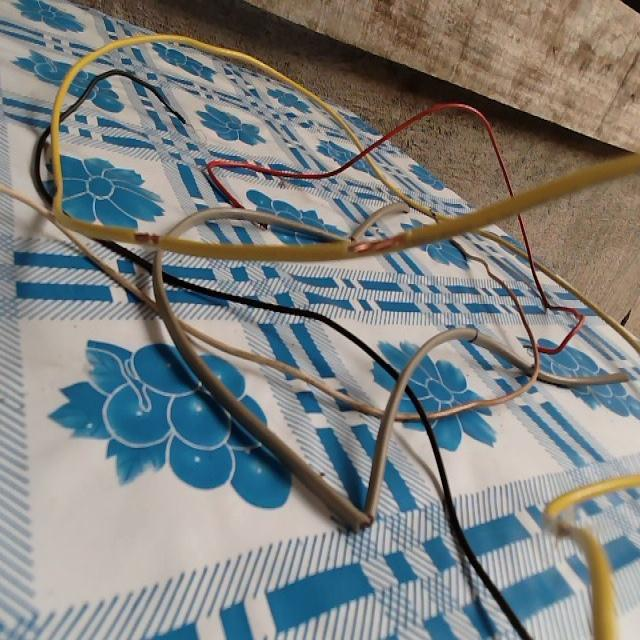-: (346, 226, 412, 258), (129, 224, 162, 252), (357, 511, 379, 538), (466, 322, 480, 350)
